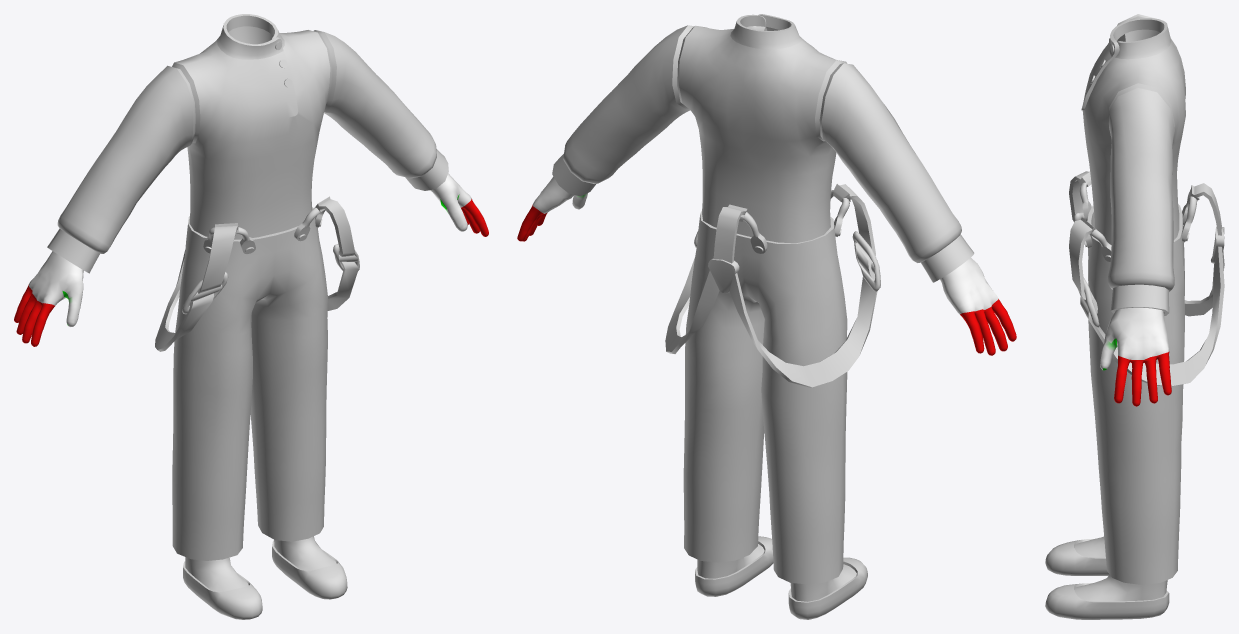
The model's file is 3Dmodel_Attire_Peasant_TEST.fbx.
3 views of the same model, side by side, from view 1: azimuth 30°, elevation 25°; view 2: azimuth 150°, elevation 25°; view 3: azimuth 270°, elevation 25° (orthographic). The views are drawn at different scales.
Parts seen in each view (by area): view 1: Attire_Pants_PantsWide.001; view 2: Attire_Pants_PantsWide.001; view 3: Attire_Pants_PantsWide.001.
Part boxes in pixels (<box>): Attire_Pants_PantsWide.001: <box>14,14,488,619</box>; Attire_Pants_PantsWide.001: <box>517,14,1016,619</box>; Attire_Pants_PantsWide.001: <box>1045,14,1224,619</box>.
Size of the model in its own units: 135 by 156 by 44.86.
